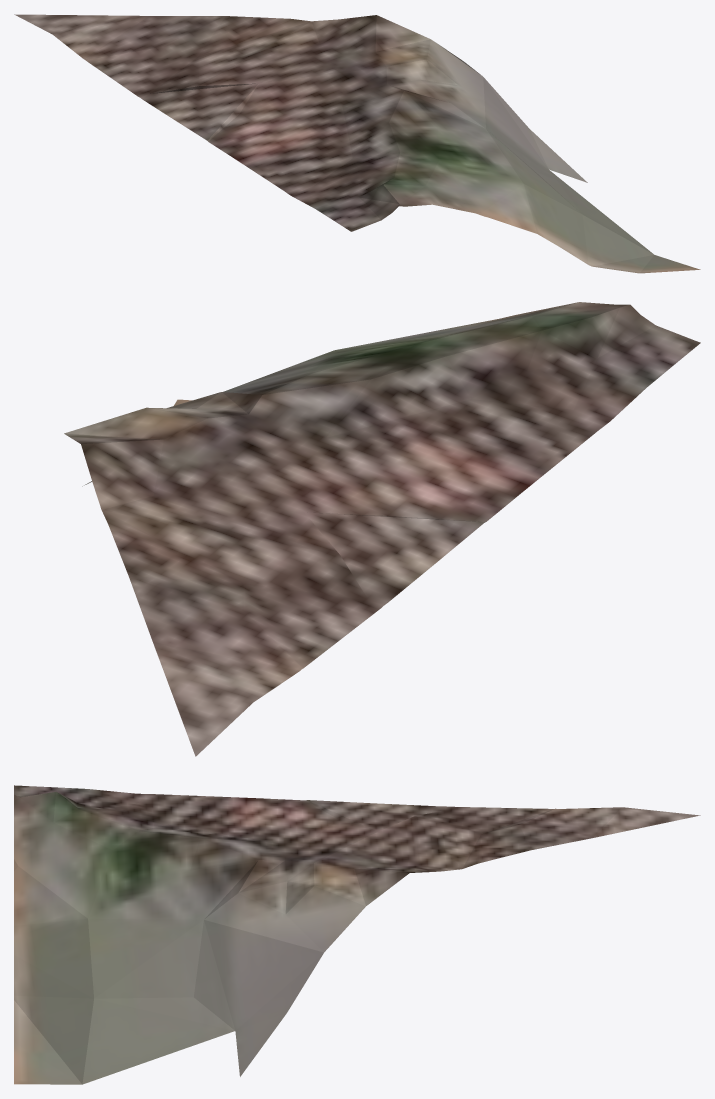
3 renders of one model, top to bottom at view 1: azimuth 30°, elevation 25°; view 2: azimuth 150°, elevation 25°; view 3: azimuth 270°, elevation 25°, orthographic. The views are drawn at different scales.
Size of the model in its own units: 3.37 by 1.39 by 5.64.
Materials: 1 (1 with a texture image).
